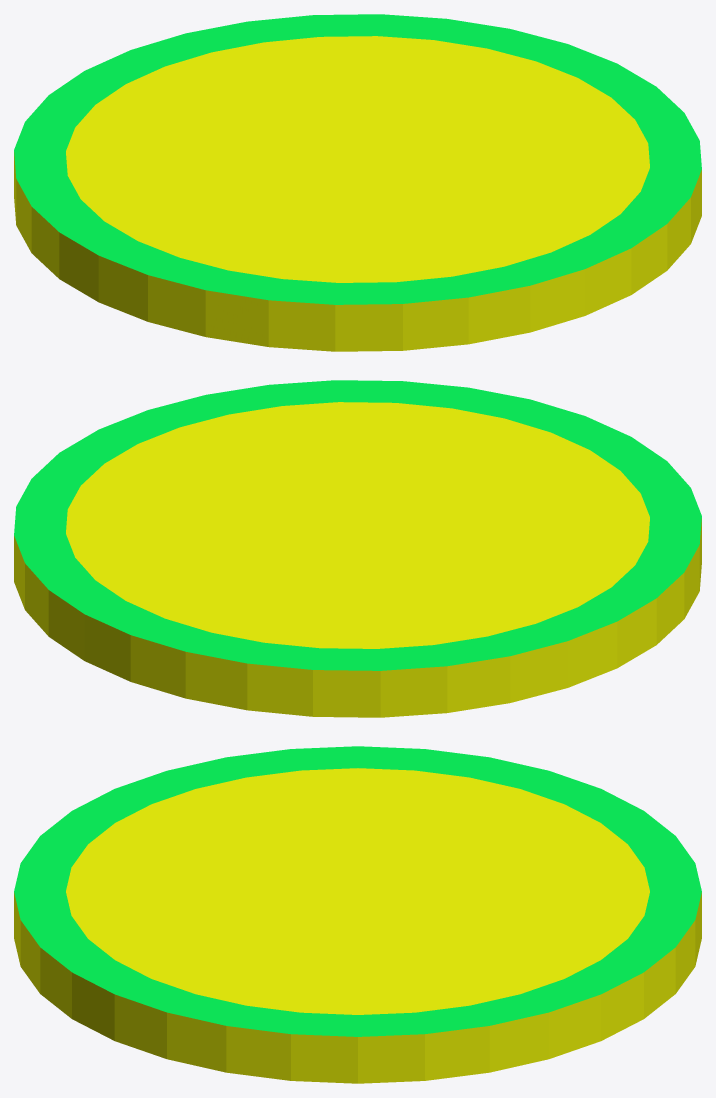
Rendered from Lime.fbx.
3 views of the same model, one above another, from view 1: azimuth 30°, elevation 25°; view 2: azimuth 150°, elevation 25°; view 3: azimuth 270°, elevation 25° (orthographic).
Parts seen in each view (by area): view 1: Circle; view 2: Circle; view 3: Circle.
Boxes of the visible parts, bbox=[...] form: Circle: bbox=[14, 14, 701, 351]; Circle: bbox=[14, 380, 701, 717]; Circle: bbox=[14, 746, 701, 1083].
Size of the model in its own units: 312 by 23.44 by 313.
